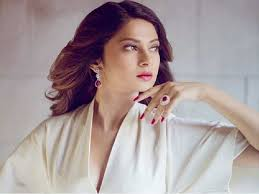indian_female: (76, 6, 173, 98)
